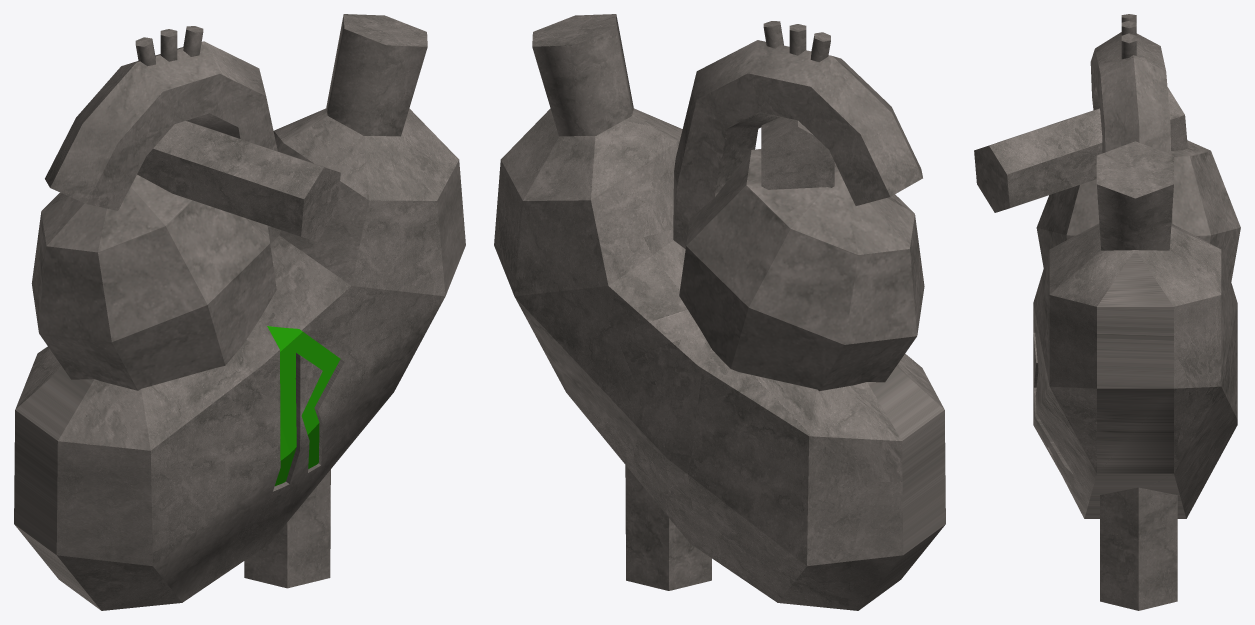
File: Health_Raphael.fbx
3 renders of one model, left to right at view 1: azimuth 30°, elevation 25°; view 2: azimuth 150°, elevation 25°; view 3: azimuth 270°, elevation 25°, orthographic. The views are drawn at different scales.
Parts seen in each view (by area): view 1: Health_R Rune; view 2: Health_R Rune; view 3: Health_R Rune.
Part boxes in pixels (x1,y1,x2,y2): Health_R Rune: (14,14,465,610); Health_R Rune: (494,14,945,610); Health_R Rune: (974,14,1240,610).
Size of the model in its own units: 53.96 by 71.63 by 33.77.
1 material, 1 textured.
